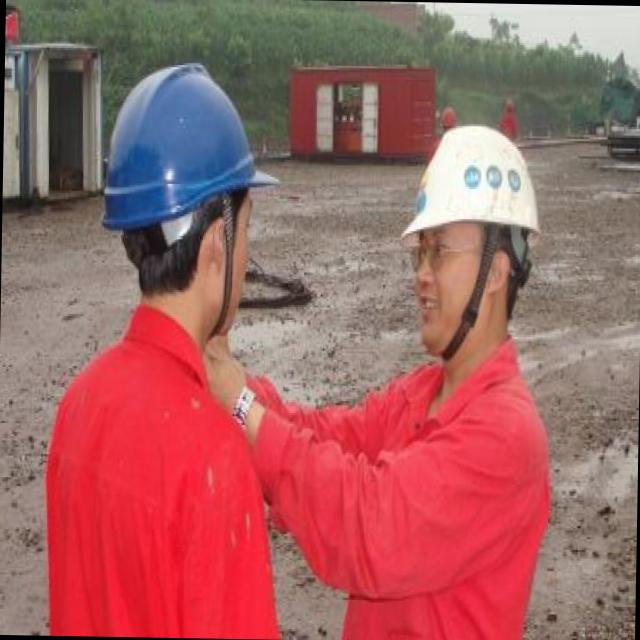helmet: (76, 30, 289, 339), (384, 92, 555, 363)
